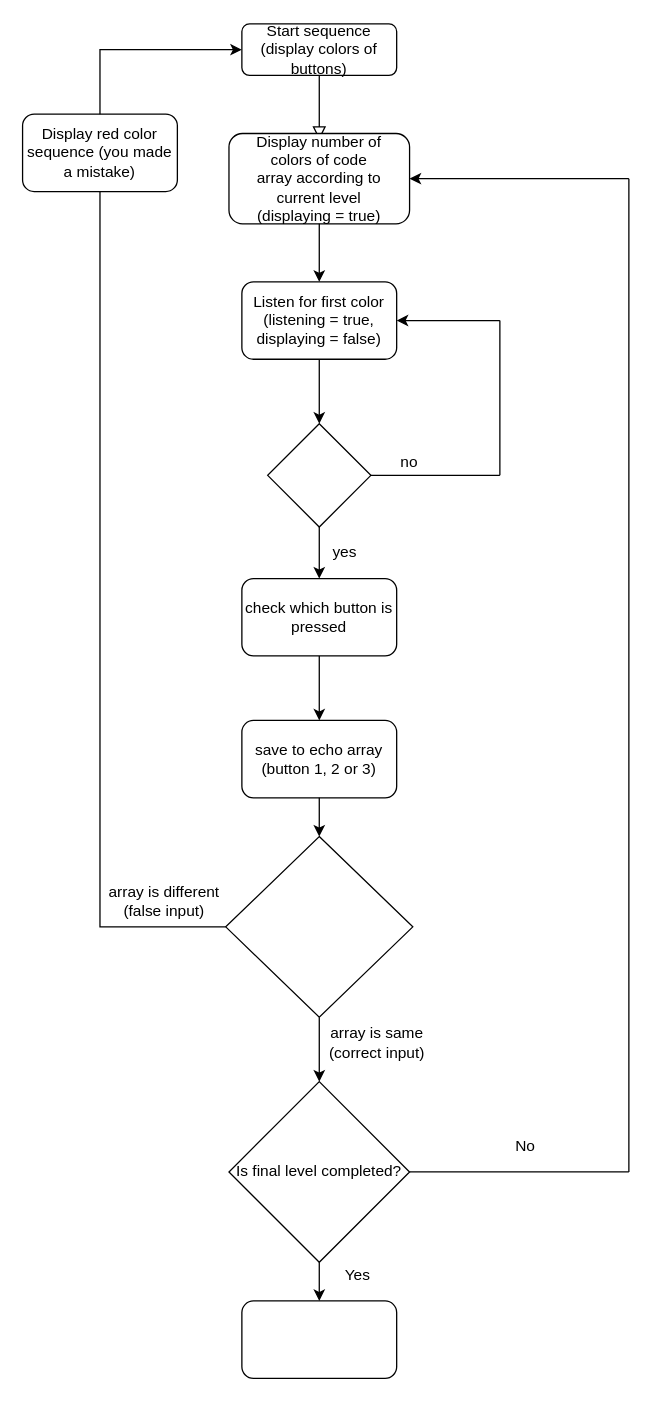
This 662x1401 diagram has some shape labels left out. The shapes that lost their labels are listed below. From the top down, each one's centre as x and y in pixels, then its label:
At point 318,474: "button pressed".
At point 318,926: "compare echo array to code array".
At point 319,1339: "display celebration".
